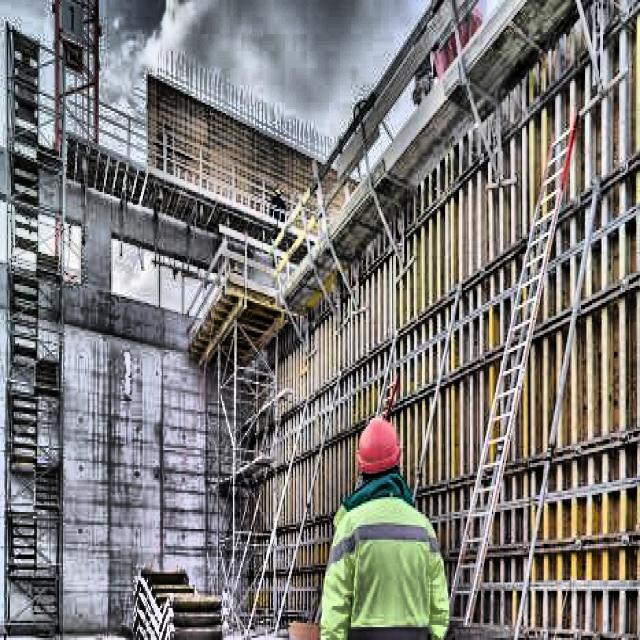helmet: (352, 412, 407, 497)
